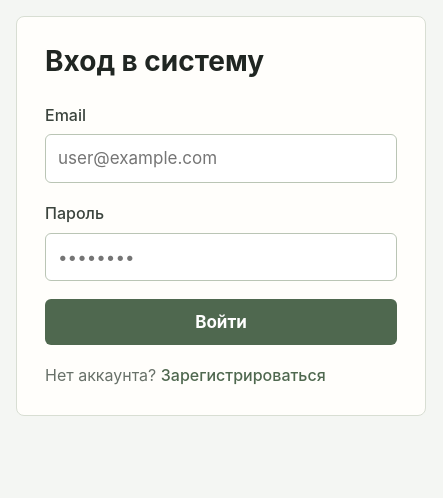
Login › stays on the form after rejected login submit
Type "student@test.ru" into the field with placeholder "user@example.com".
click(221, 159); type("student@test.ru")  # box [45,134,397,183]
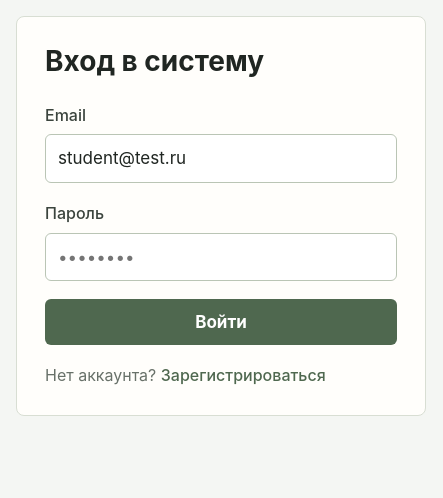
Type "123456" into the password field with placeholder "••••••••".
click(221, 257); type("123456")  # box [45,232,397,281]
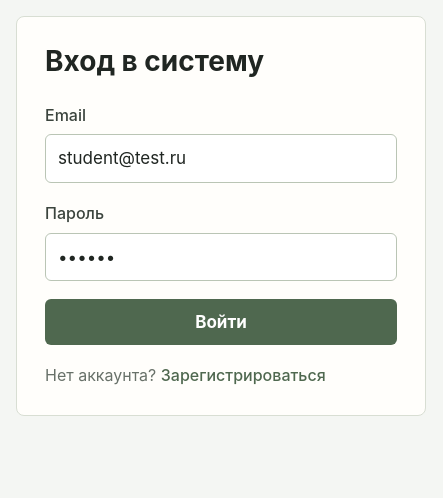
Submit the form "Войти"
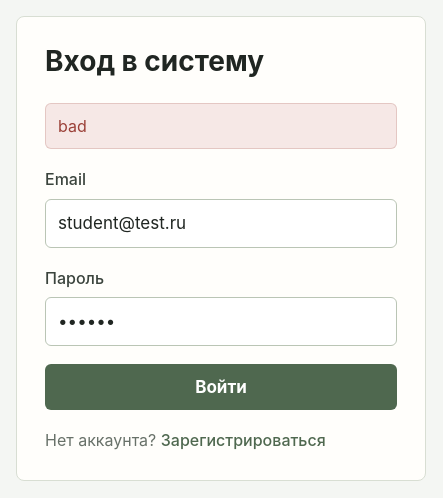
Now the text "bad" is shown, box [45,103,397,149]
